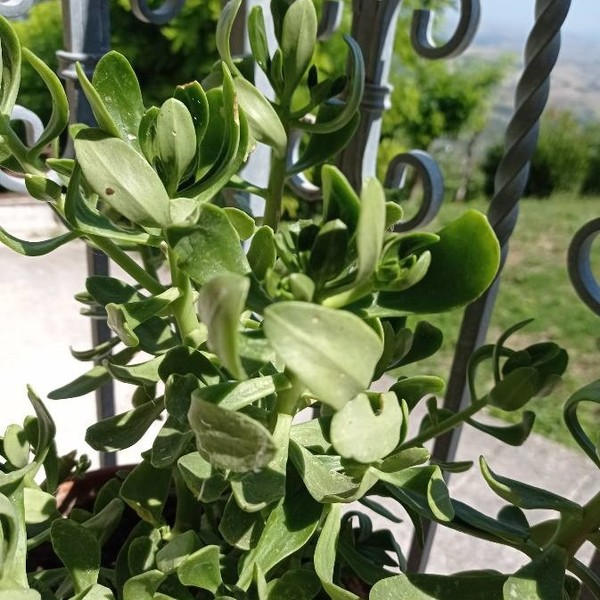obstacle: (62, 57, 483, 540)
